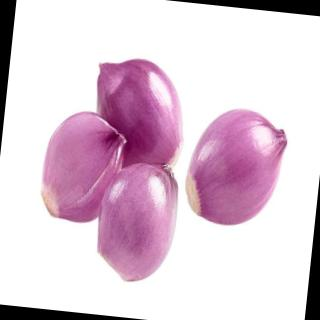Bawang Merah: (178, 102, 295, 234), (90, 157, 186, 291), (34, 105, 132, 233)
